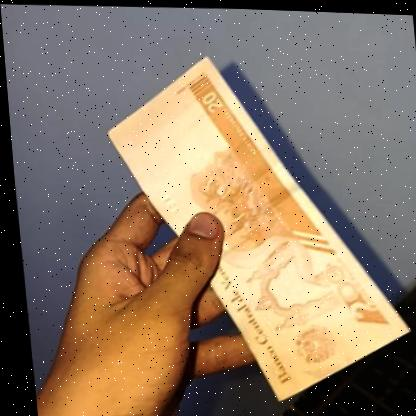twenty-back-vef: (89, 44, 416, 410)
